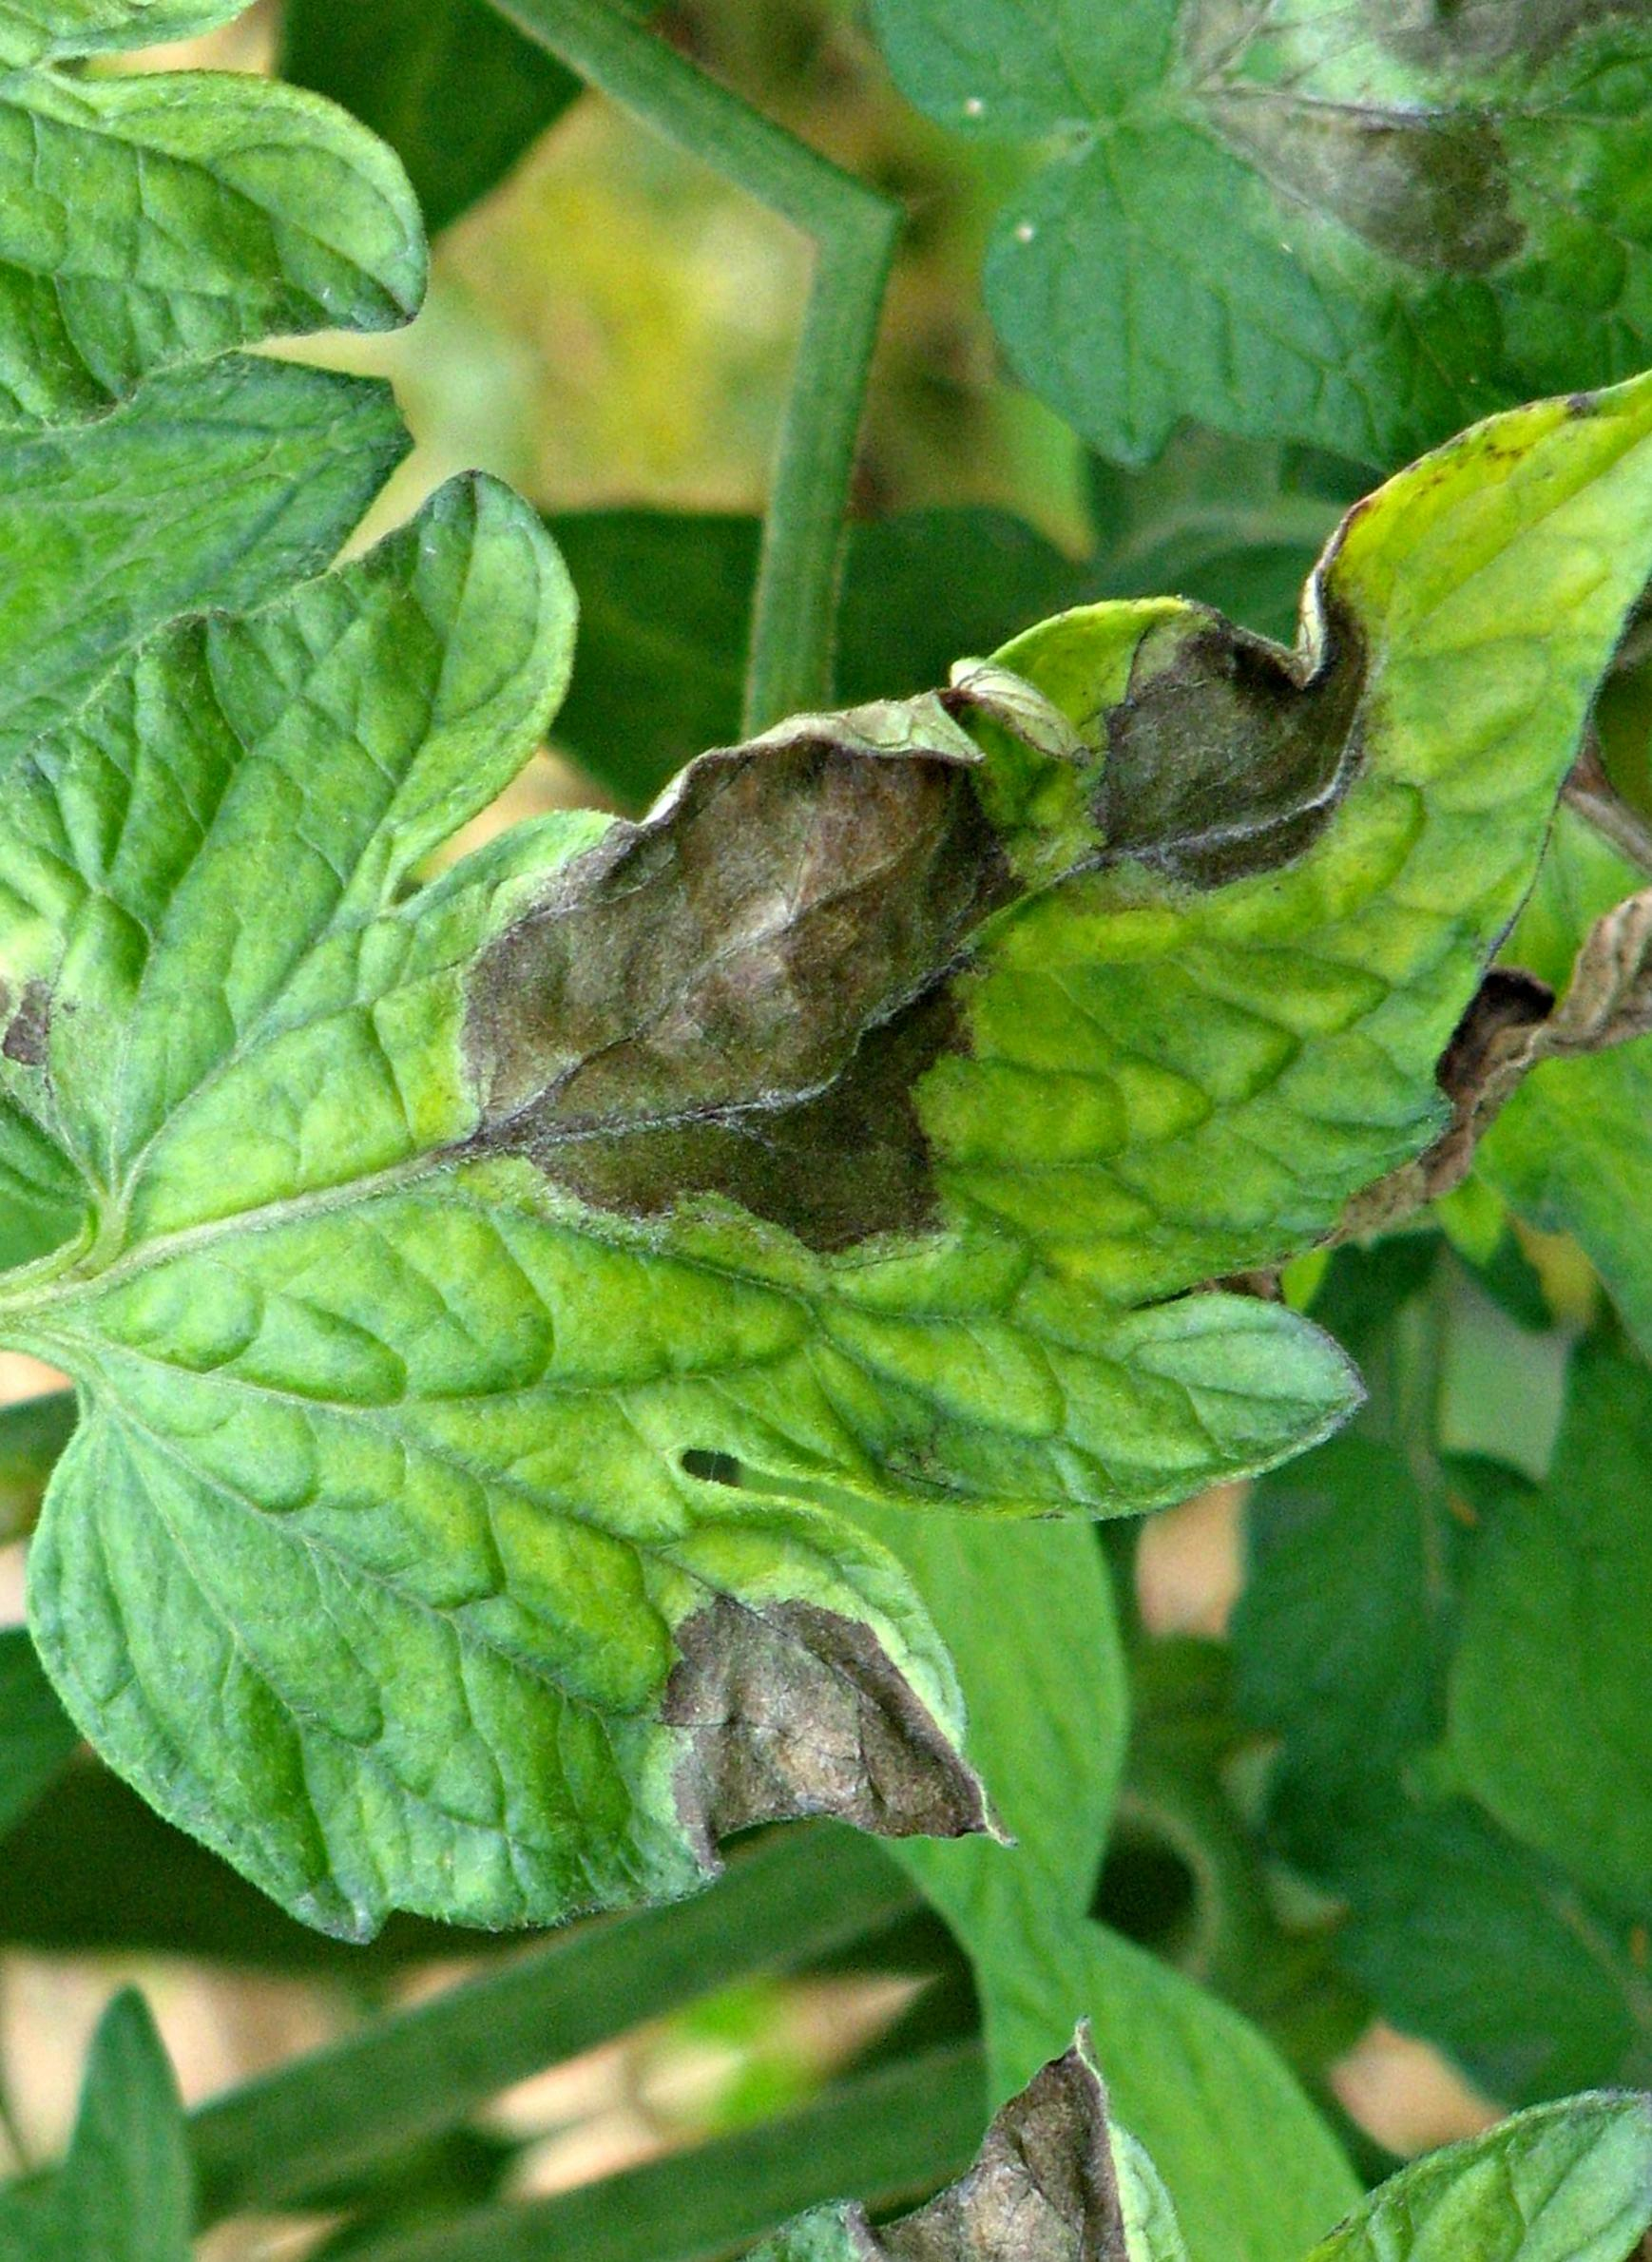Tomato leaf late blight: (0, 72, 1652, 2157)
